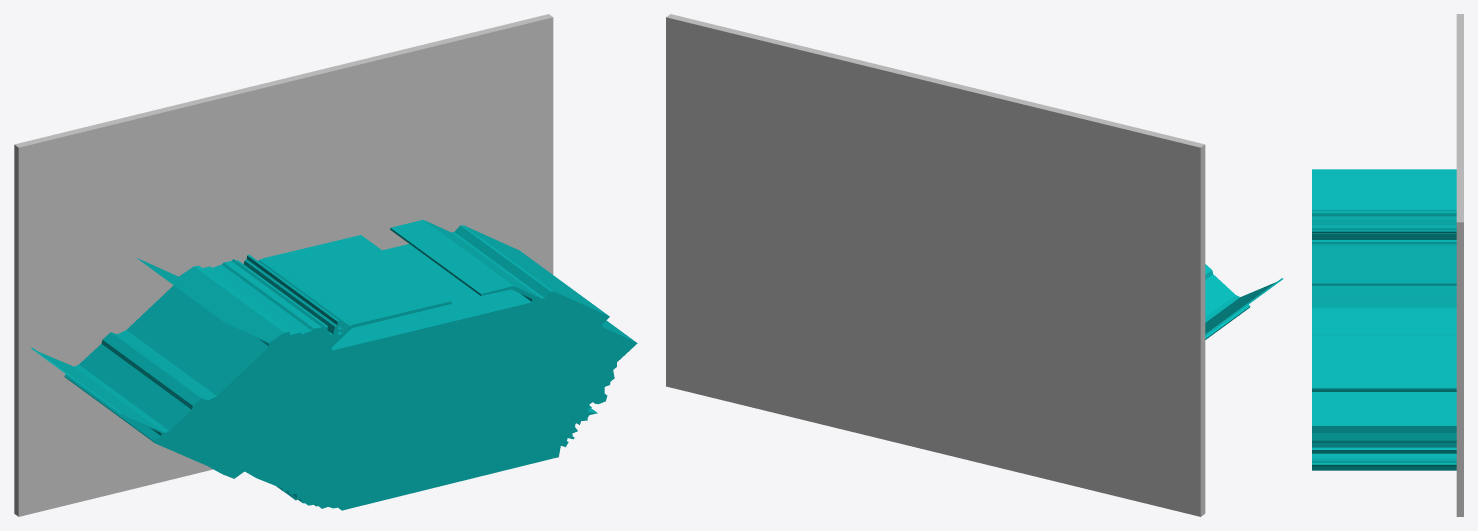
The picture shows the model from 3 angles, left to right: view 1: azimuth 30°, elevation 25°; view 2: azimuth 150°, elevation 25°; view 3: azimuth 270°, elevation 25°; orthographic projection. The views are drawn at different scales.
Parts seen in each view (by area): view 1: world; view 2: world; view 3: world.
Boxes of the visible parts, x1,y1,x2,y2 form: world: [14, 14, 637, 516]; world: [666, 14, 1283, 516]; world: [1312, 14, 1463, 516].
Size of the model in its own units: 10.23 by 6.75 by 3.15.
